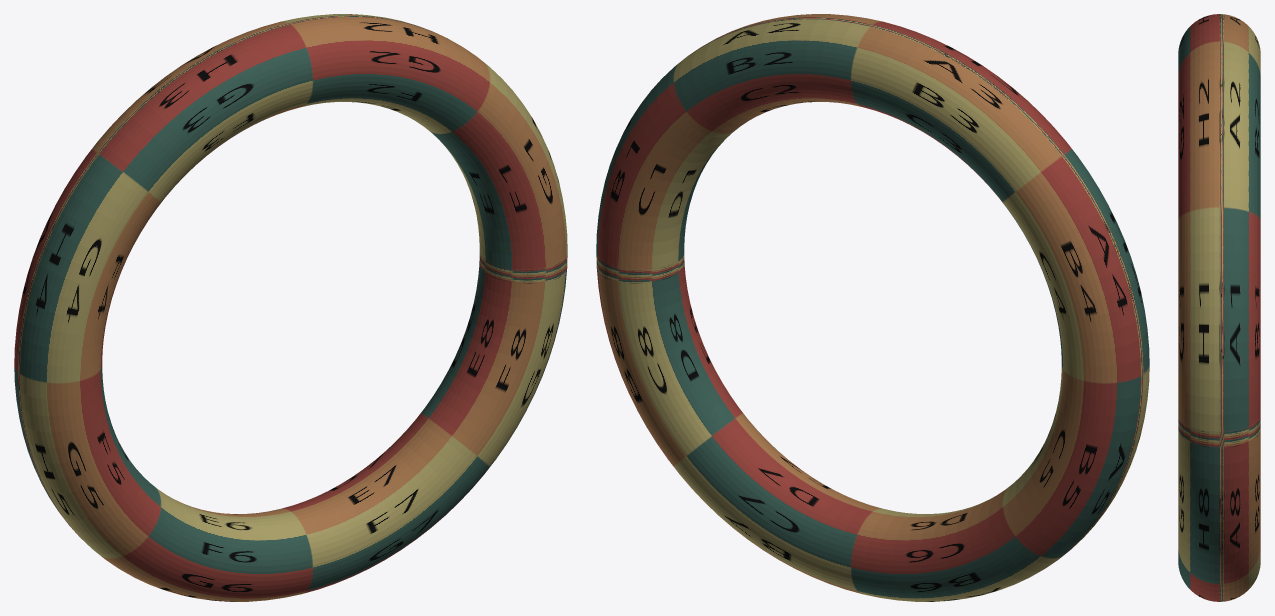
Rendered from texture_torus_R1_r0.glb.
3 renders of one model, left to right at view 1: azimuth 30°, elevation 25°; view 2: azimuth 150°, elevation 25°; view 3: azimuth 270°, elevation 25°, orthographic. The views are drawn at different scales.
Parts seen in each view (by area): view 1: world; view 2: world; view 3: world.
Part boxes in pixels (x1=…): world: x1=14, y1=14, x2=567, y2=601; world: x1=596, y1=14, x2=1149, y2=601; world: x1=1178, y1=14, x2=1260, y2=601.
Size of the model in its own units: 14.22 by 14.22 by 2.
Materials: 1 (1 with a texture image).
